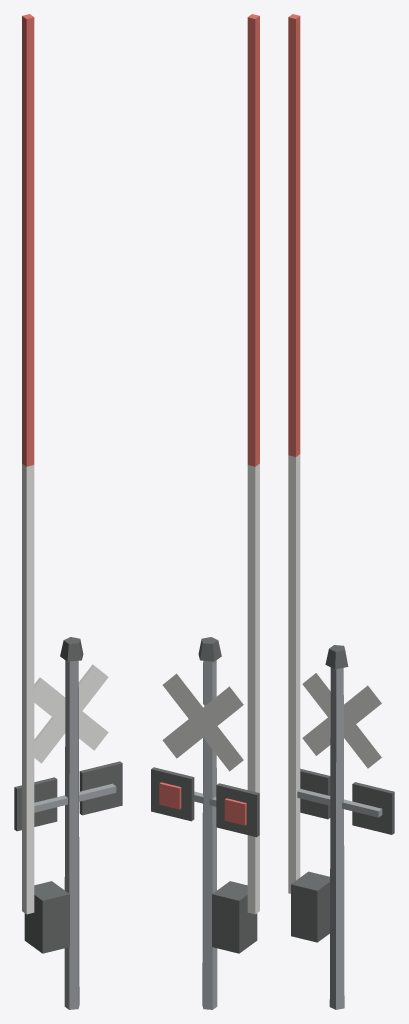
Rendered from crossing-gate-4-far.glb.
3 views of the same model, side by side, from view 1: azimuth 30°, elevation 25°; view 2: azimuth 150°, elevation 25°; view 3: azimuth 330°, elevation 25° (orthographic). The views are drawn at different scales.
Visible parts, largest first — view 1: crossing-gate-4-far; view 2: crossing-gate-4-far; view 3: crossing-gate-4-far.
Boxes of the visible parts, box(x1,y1,x2,y2) form: crossing-gate-4-far: box(14, 14, 122, 1009); crossing-gate-4-far: box(151, 14, 259, 1009); crossing-gate-4-far: box(288, 14, 394, 1009).
Size of the model in its own units: 0.1106 by 1 by 0.0325.
